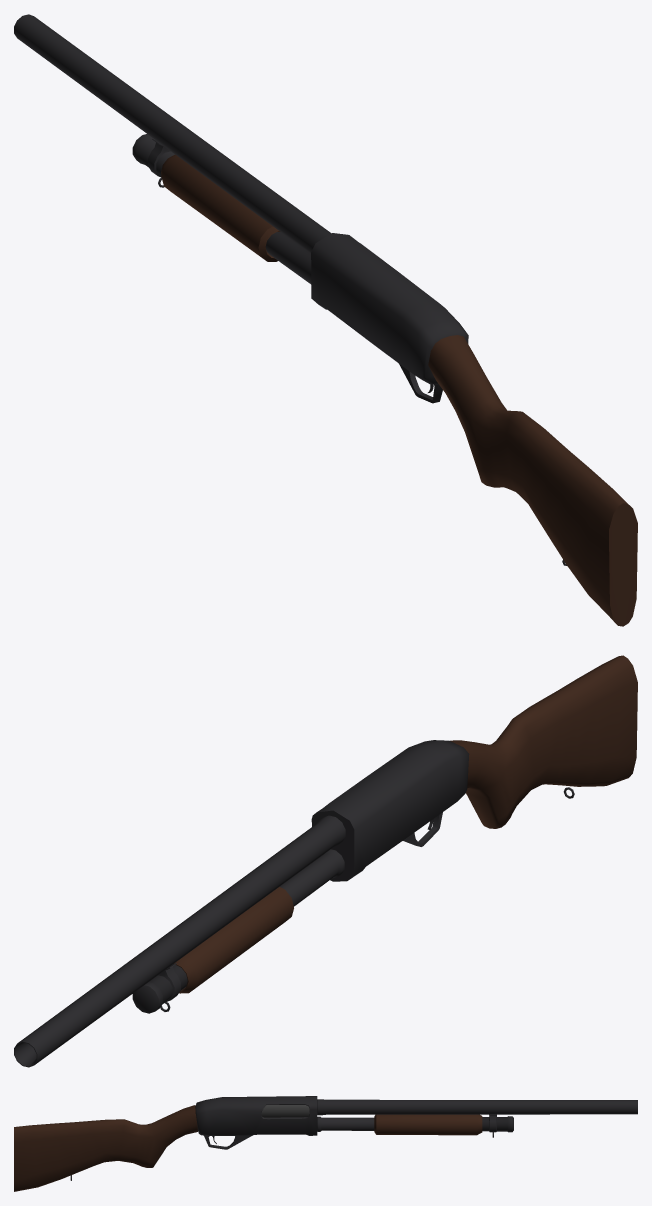
The model's file is PompShotgun.FBX.
The picture shows the model from 3 angles, top to bottom: view 1: azimuth 30°, elevation 25°; view 2: azimuth 150°, elevation 25°; view 3: azimuth 270°, elevation 25°; orthographic projection. The views are drawn at different scales.
Visible parts, largest first — view 1: Object011; view 2: Object011; view 3: Object011.
Boxes of the visible parts, box(x1,y1,x2,y2) form: Object011: box(14, 14, 637, 626); Object011: box(14, 655, 637, 1067); Object011: box(14, 1096, 637, 1191).
Bounding box in the file's own units: 30.12 × 119 × 710.
